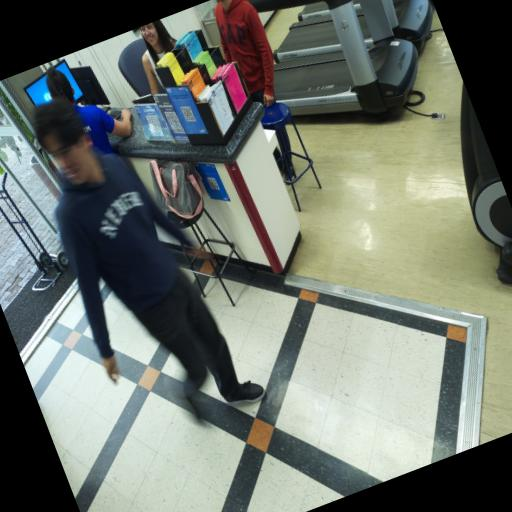person: (35, 99, 265, 415), (46, 67, 131, 153), (215, 0, 275, 106), (141, 19, 176, 94)
